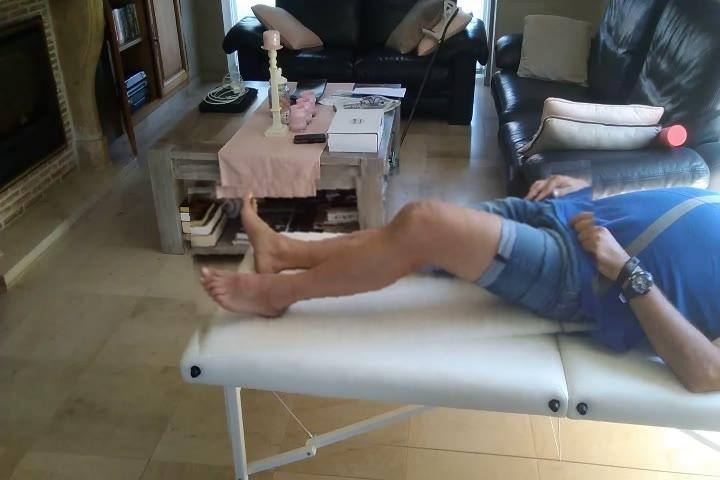lowerbody: (192, 168, 600, 351)
